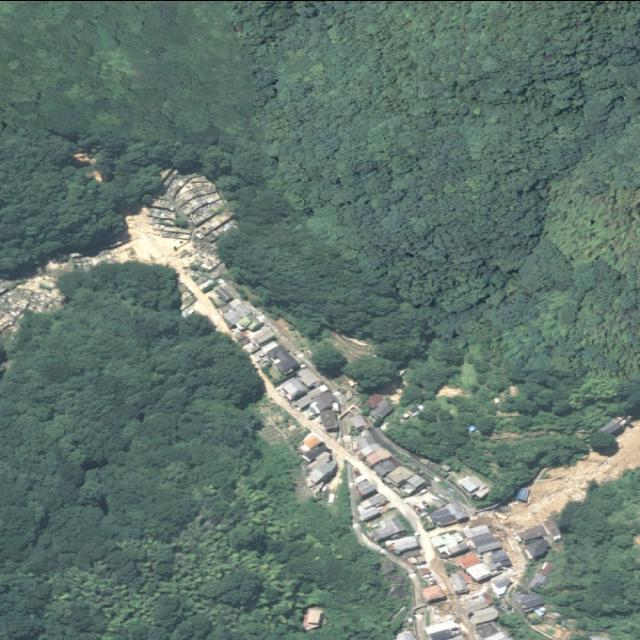landslide: (503, 420, 640, 530)
